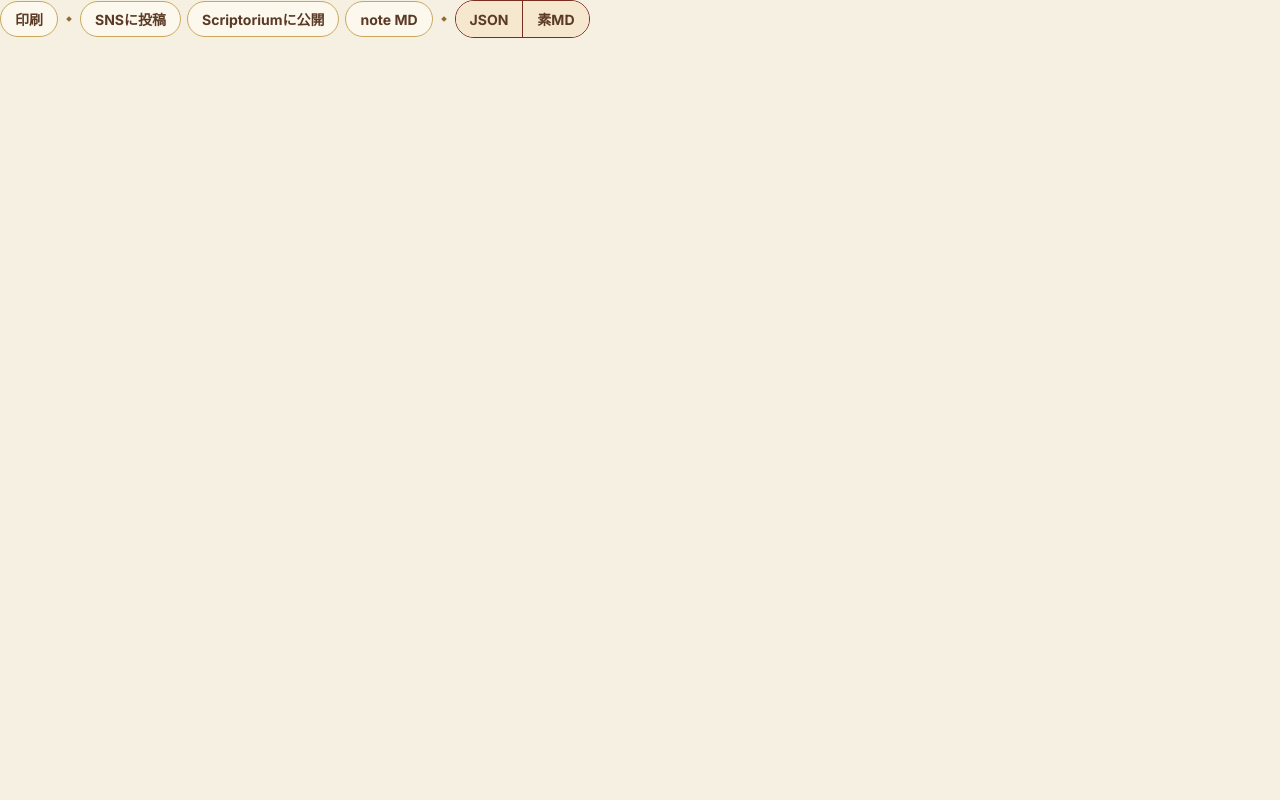
Scenario: ExportActionBar — PC幅（従来のピル群） › JSONエクスポート失敗時はエラートーストを表示する
Click the button "JSON": (489, 19) [456,1,522,37]
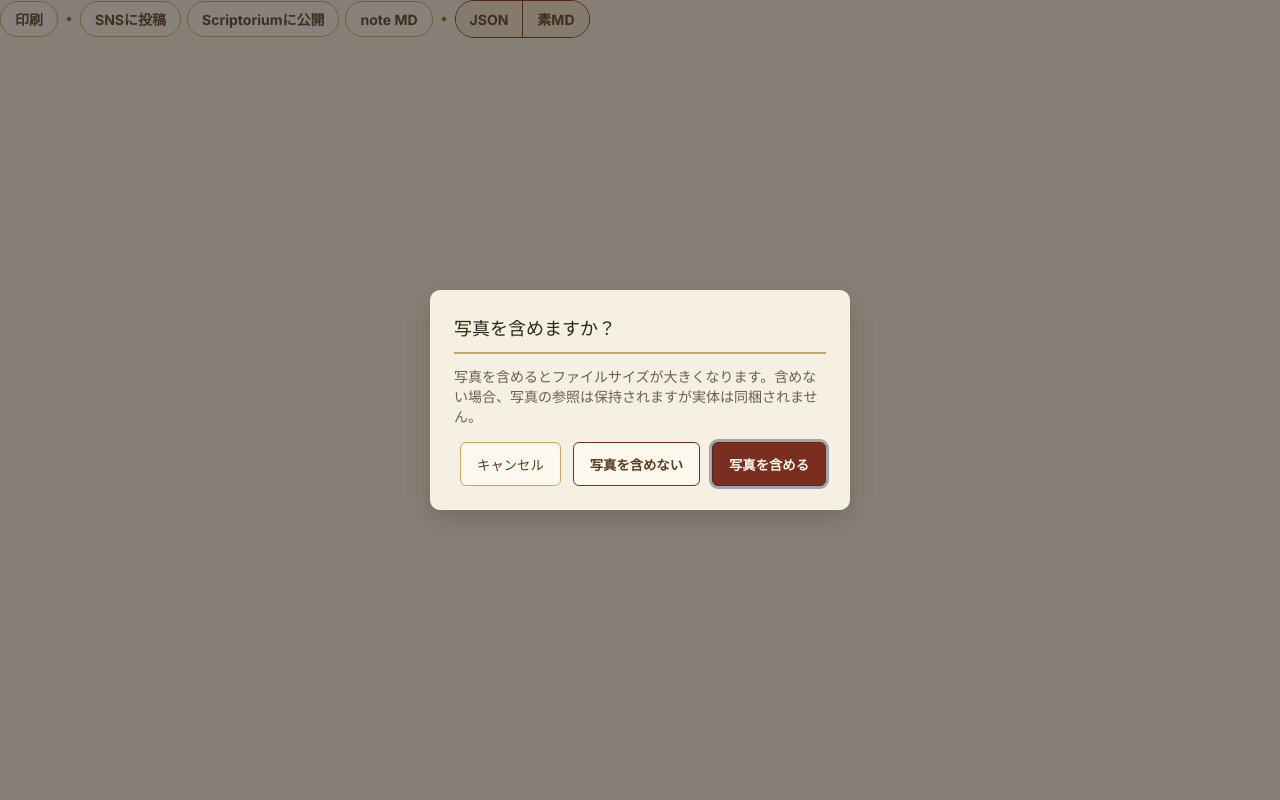
Click the button "写真を含める": (769, 464) [712,442,826,486]
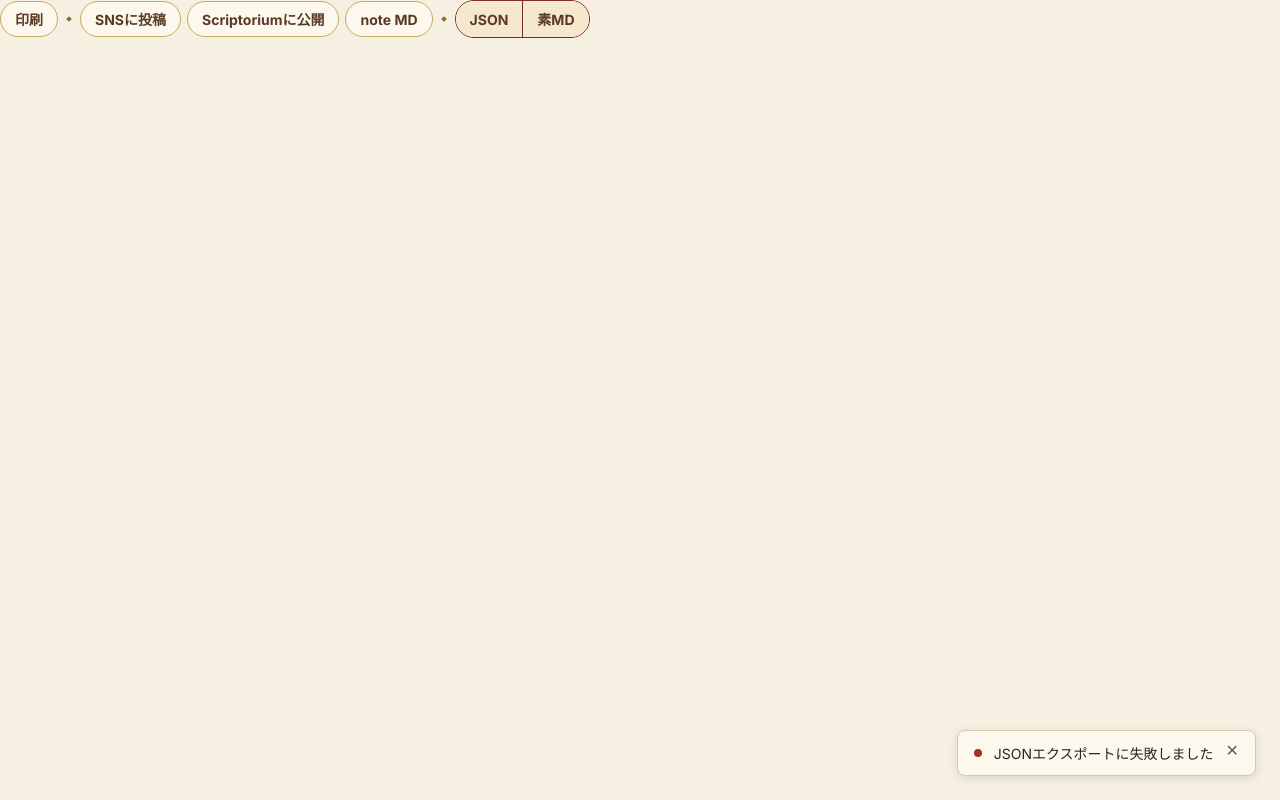
Check: the text "JSONエクスポートに失敗しました" is shown, box [994,743,1214,763]
